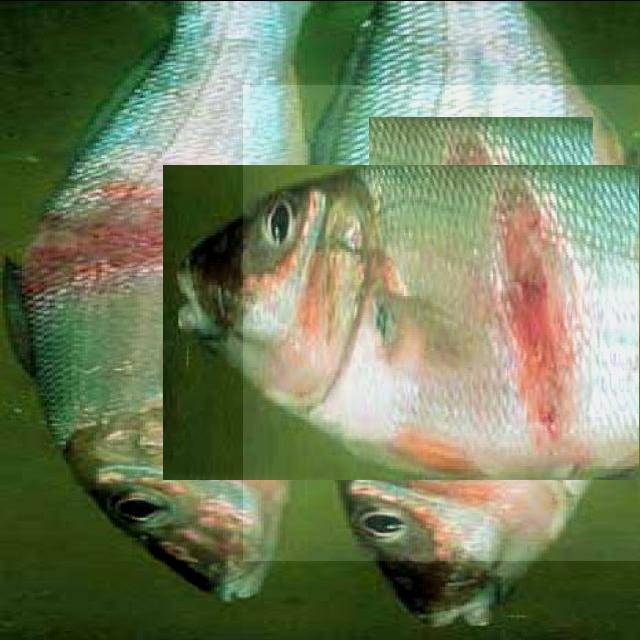EUS Disease: (3, 3, 331, 616), (243, 84, 640, 560), (346, 140, 616, 410), (48, 138, 272, 362)
